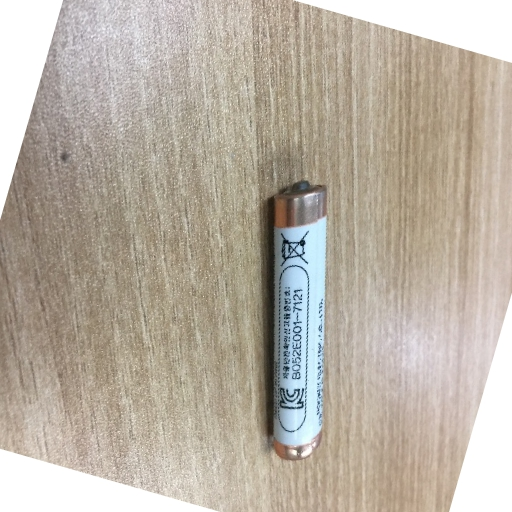Battery_0: (256, 173, 345, 473)
